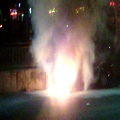fire: (45, 52, 77, 99)
